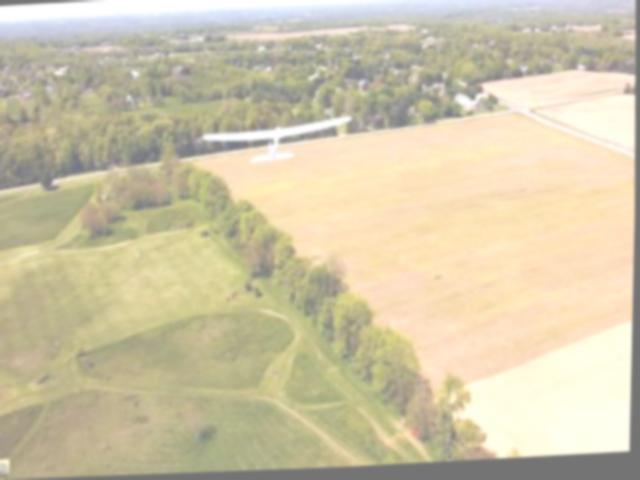uav: (196, 107, 359, 174)
